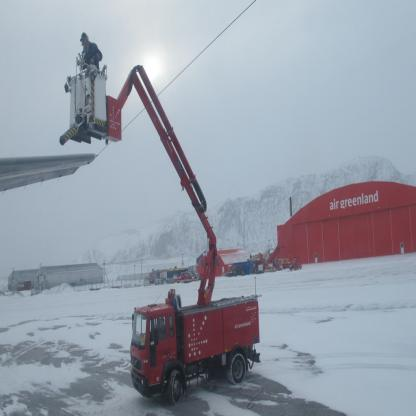Truck: (60, 51, 262, 405)
